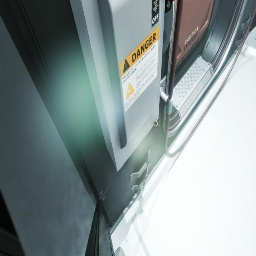SafetySwitchPanel ,: (70, 0, 175, 172)
